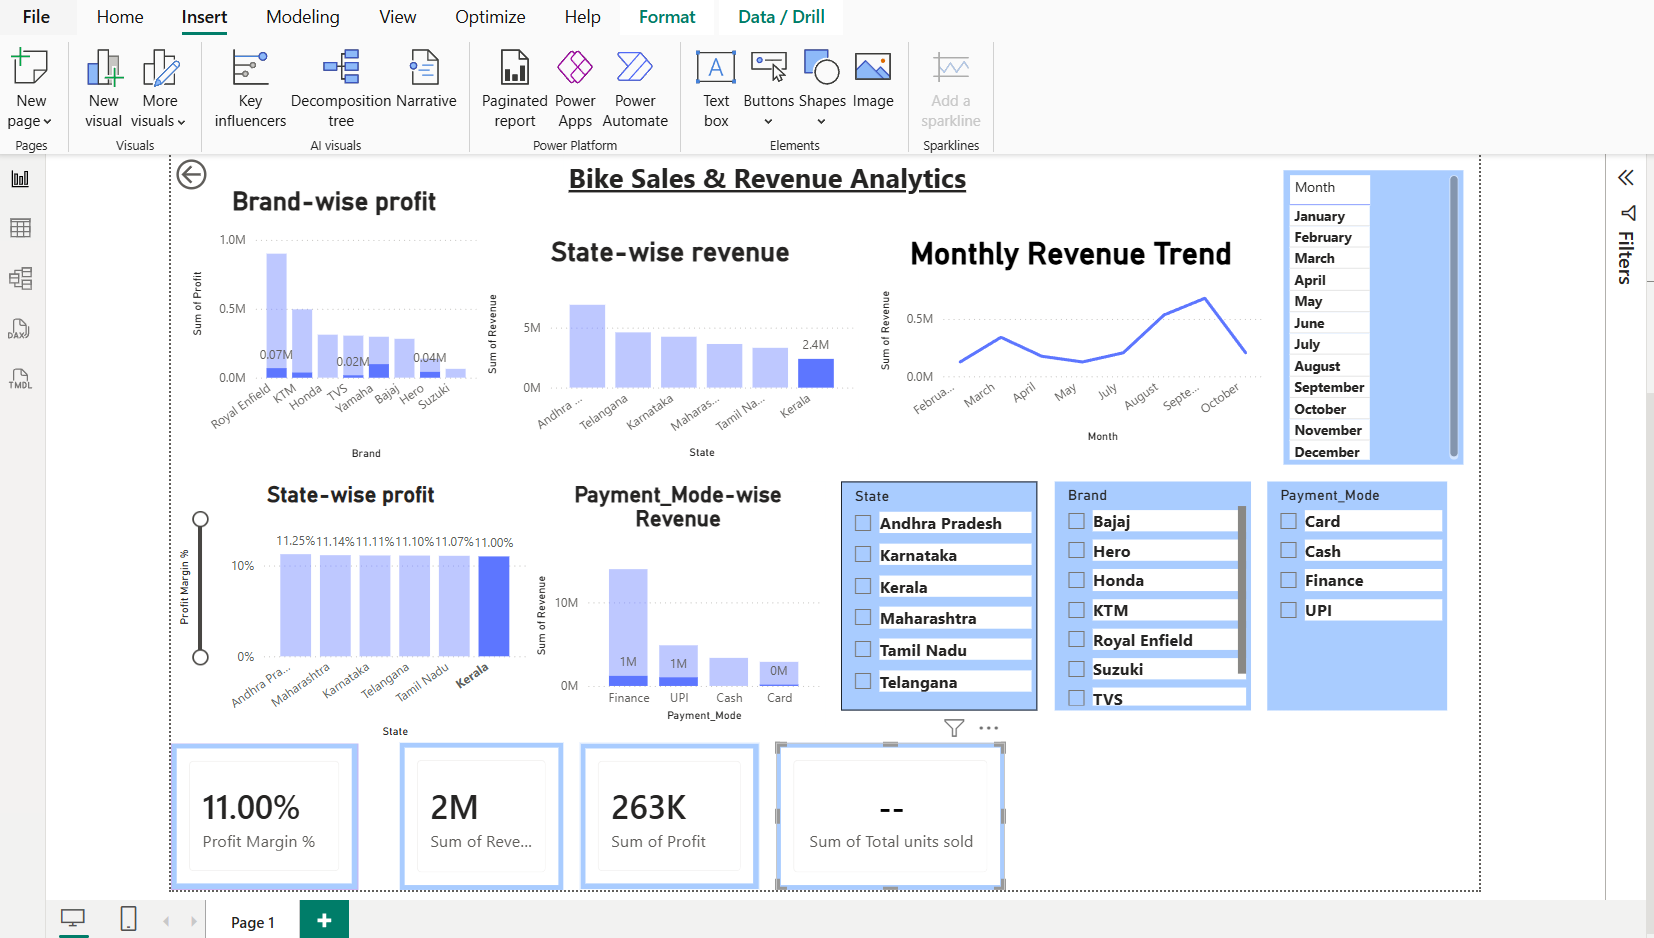

This screenshot's page, from the dashboard's own definition file:
{"tool":"powerbi","page":{"name":"Page 1","canvas":[1280,720],"ordinal":0},"visuals":[{"type":"cardVisual","fields":{"Data":["Raw_Data.Profit Margin %"]},"box":[0,576,183,144],"z":0},{"type":"lineChart","title":"Monthly Revenue Trend","fields":{"Category":["Raw_Data.Purchase_Date.Variation.Date Hierarchy.Month"],"Y":["Sum(Raw_Data.Revenue)"]},"box":[688,80,384,208],"z":1000},{"type":"clusteredColumnChart","title":" Brand-wise profit","fields":{"Category":["Raw_Data.Brand"],"Y":["Sum(Raw_Data.Profit)"]},"box":[16,32,288,272],"z":2000},{"type":"clusteredColumnChart","title":" State-wise profit","fields":{"Category":["Raw_Data.State"],"Y":["Raw_Data.Profit Margin %"]},"box":[0,320,352,256],"z":3000},{"type":"cardVisual","fields":{"Data":["Sum(Raw_Data.Revenue)"]},"box":[224,576,160,144],"z":4000},{"type":"cardVisual","fields":{"Data":["Sum(Raw_Data.Profit)"]},"box":[400,576,176,144],"z":5000},{"type":"clusteredColumnChart","title":" Payment_Mode-wise Revenue","fields":{"Category":["Raw_Data.Payment_Mode"],"Y":["Sum(Raw_Data.Revenue)"]},"box":[352,320,288,240],"z":6000},{"type":"clusteredColumnChart","title":" State-wise revenue","fields":{"Category":["Raw_Data.State"],"Y":["Sum(Raw_Data.Revenue)"]},"box":[304,80,368,224],"z":7000},{"type":"slicer","fields":{"Values":["Raw_Data.State"]},"box":[656,320,192,224],"z":8000},{"type":"cardVisual","fields":{"Data":["Sum(Raw_Data.Total units sold)"]},"box":[592,576,224,144],"z":9000},{"type":"slicer","fields":{"Values":["Raw_Data.Brand"]},"box":[864,320,192,224],"z":10000},{"type":"slicer","fields":{"Values":["Raw_Data.Payment_Mode"]},"box":[1072,320,176,224],"z":11000},{"type":"textbox","box":[384,0,416,48],"z":12001},{"type":"actionButton","box":[0,0,100,40],"z":12003},{"type":"tableEx","fields":{"Values":["Raw_Data.Purchase_Date.Variation.Date Hierarchy.Month"]},"box":[1088,16,176,288],"z":12004}]}

Visuals, with their boxes on the page's 1280x720 design canvas (x1, y1, x2, y2). These are canvas units, not pixel positions in the 1654x938 screenshot, which may show the page scaled, cropped or inside an application window:
cardVisual - Raw_Data.Profit Margin %: 0, 576, 183, 720
"Monthly Revenue Trend" lineChart: 688, 80, 1072, 288
" Brand-wise profit" clusteredColumnChart: 16, 32, 304, 304
" State-wise profit" clusteredColumnChart: 0, 320, 352, 576
cardVisual - Sum(Raw_Data.Revenue): 224, 576, 384, 720
cardVisual - Sum(Raw_Data.Profit): 400, 576, 576, 720
" Payment_Mode-wise Revenue" clusteredColumnChart: 352, 320, 640, 560
" State-wise revenue" clusteredColumnChart: 304, 80, 672, 304
slicer - Raw_Data.State: 656, 320, 848, 544
cardVisual - Sum(Raw_Data.Total units sold): 592, 576, 816, 720
slicer - Raw_Data.Brand: 864, 320, 1056, 544
slicer - Raw_Data.Payment_Mode: 1072, 320, 1248, 544
textbox: 384, 0, 800, 48
actionButton: 0, 0, 100, 40
tableEx - Raw_Data.Purchase_Date.Variation.Date Hierarchy.Month: 1088, 16, 1264, 304
